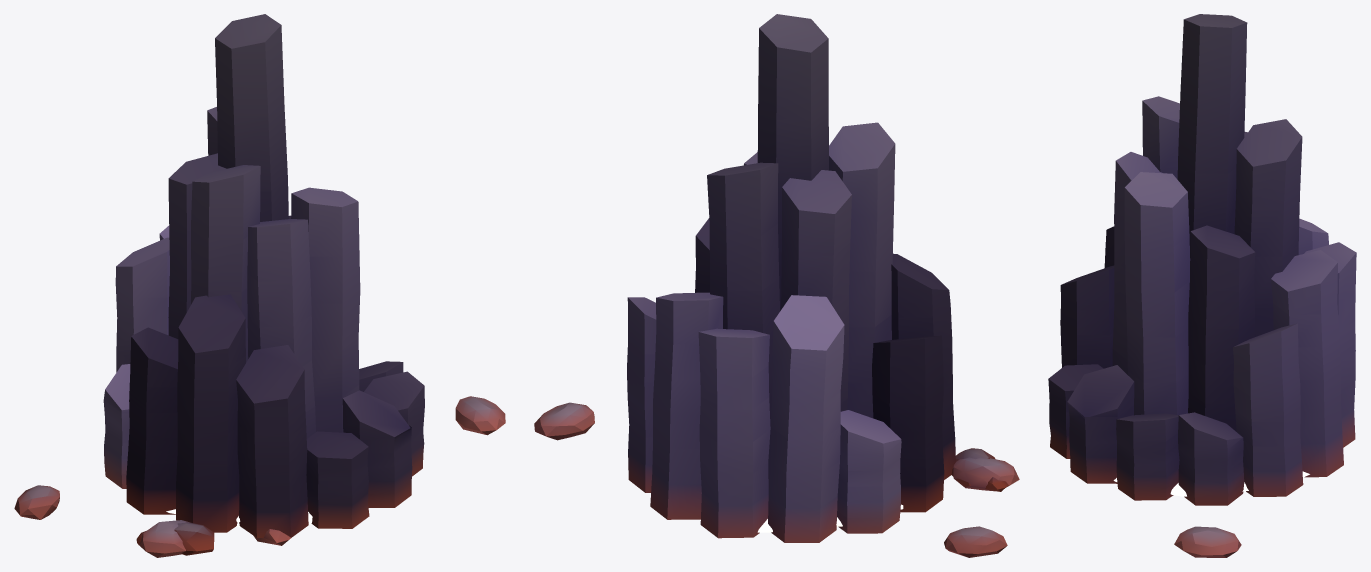
The model's file is ember_pillar_organ_b.glb.
3 renders of one model, left to right at view 1: azimuth 30°, elevation 25°; view 2: azimuth 150°, elevation 25°; view 3: azimuth 270°, elevation 25°, orthographic. The views are drawn at different scales.
Visible parts, largest first — view 1: ember_pillar_organ_b; view 2: ember_pillar_organ_b; view 3: ember_pillar_organ_b.
Boxes of the visible parts, x1=… form: ember_pillar_organ_b: x1=14, y1=14, x2=505, y2=557; ember_pillar_organ_b: x1=534, y1=14, x2=1019, y2=557; ember_pillar_organ_b: x1=1048, y1=14, x2=1356, y2=557.
Size of the model in its own units: 15.65 by 14.61 by 9.35.
